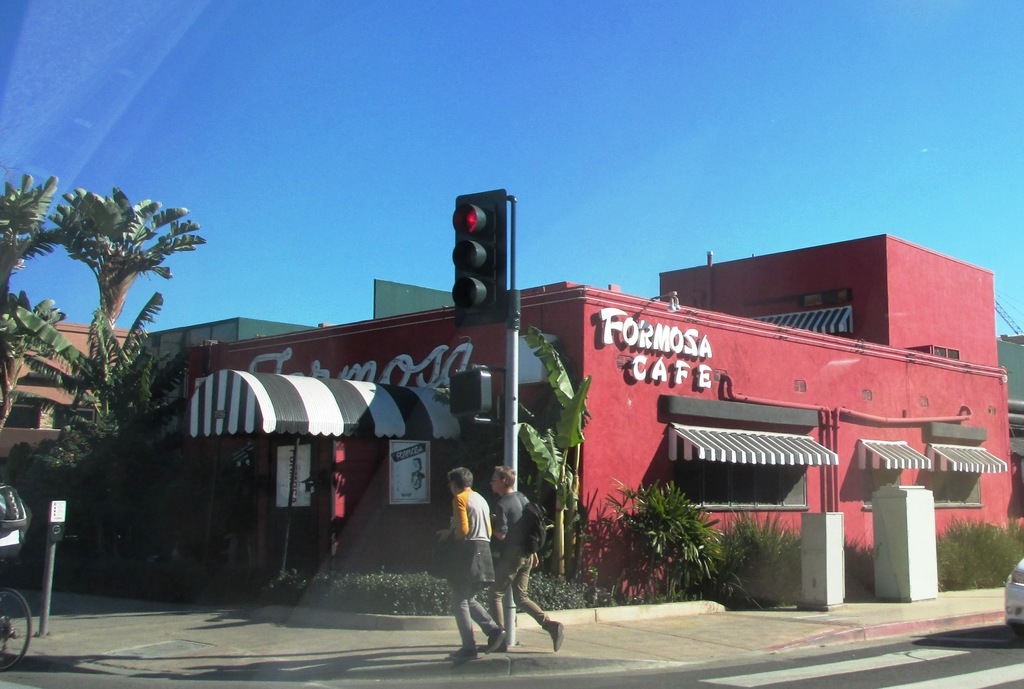red_light: (455, 194, 506, 320)
